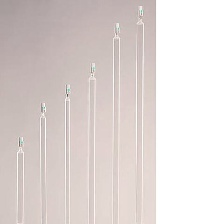light_bulb: (133, 3, 145, 223), (110, 19, 121, 224), (84, 60, 97, 224), (61, 83, 72, 224), (36, 99, 48, 224), (13, 133, 28, 224)
